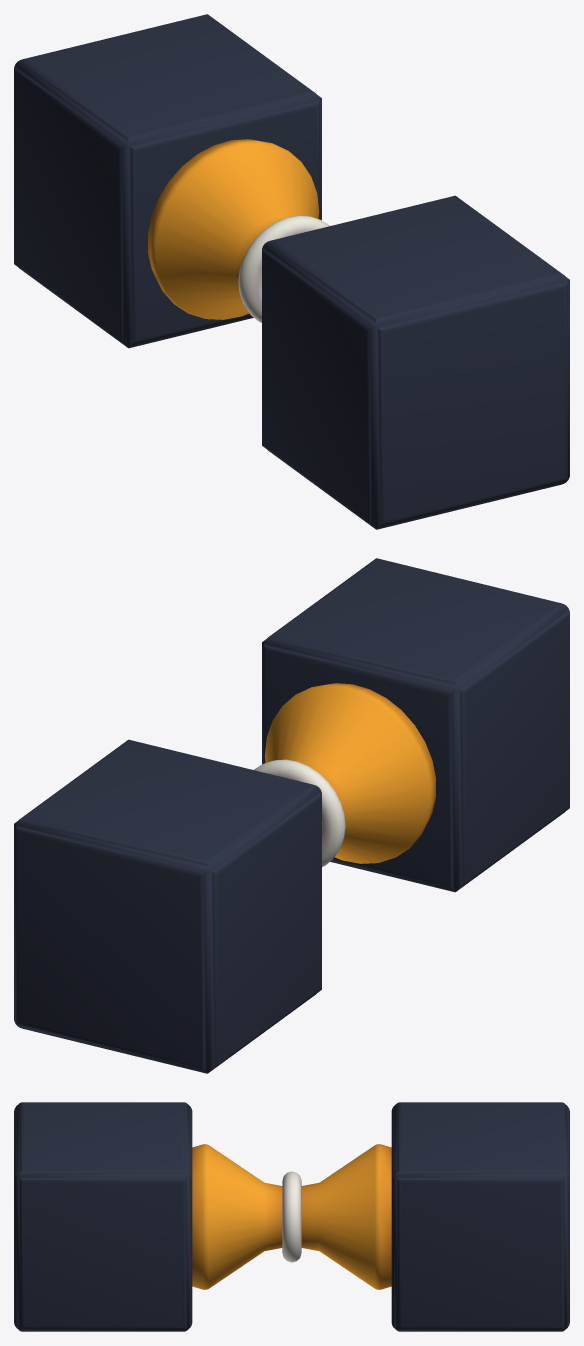
The model's file is R4C_STRUT_STANDARD.fbx.
The picture shows the model from 3 angles, top to bottom: view 1: azimuth 30°, elevation 25°; view 2: azimuth 150°, elevation 25°; view 3: azimuth 270°, elevation 25°; orthographic projection. The views are drawn at different scales.
Visible parts, largest first — view 1: R4C_STRUT_STANDARD; view 2: R4C_STRUT_STANDARD; view 3: R4C_STRUT_STANDARD.
Part boxes in pixels (bbox=[...]): R4C_STRUT_STANDARD: bbox=[14, 14, 569, 529]; R4C_STRUT_STANDARD: bbox=[14, 558, 569, 1073]; R4C_STRUT_STANDARD: bbox=[14, 1102, 569, 1331].
Size of the model in its own units: 0.52 by 0.52 by 1.62.
